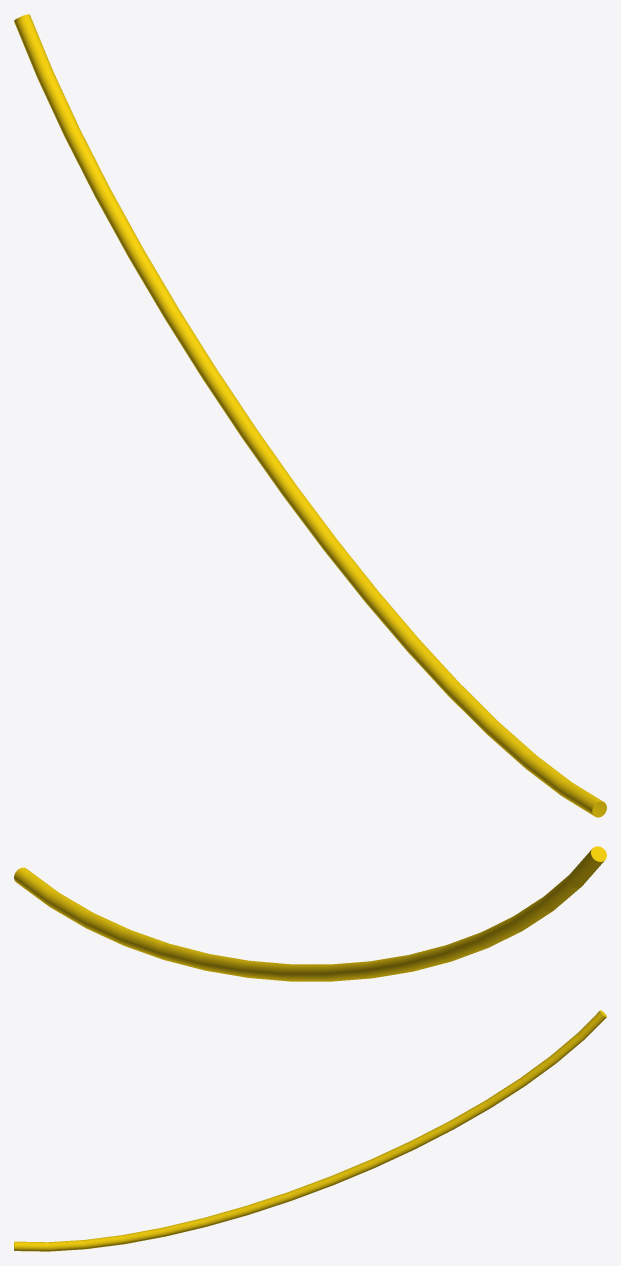
Rendered from Event_420094457_track_91.fbx.
3 renders of one model, top to bottom at view 1: azimuth 30°, elevation 25°; view 2: azimuth 210°, elevation 25°; view 3: azimuth 270°, elevation 25°, orthographic. The views are drawn at different scales.
Parts seen in each view (by area): view 1: Model; view 2: Model; view 3: Model.
Boxes of the visible parts, left/top/right/bottom form: Model: left=14, top=14, right=606, bottom=817; Model: left=14, top=846, right=606, bottom=981; Model: left=14, top=1010, right=606, bottom=1251.
Bounding box in the file's own units: 0.1434 × 1.08 × 2.51.
